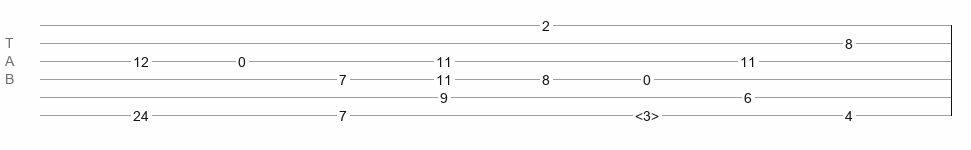0: (238, 54, 246, 64), (643, 72, 651, 82)
11: (436, 72, 452, 82), (436, 54, 452, 64), (740, 54, 756, 64)
12: (133, 54, 149, 64)
2: (542, 18, 550, 28)
24: (133, 108, 149, 118)
4: (845, 108, 853, 118)
6: (744, 90, 752, 100)
7: (339, 108, 347, 118), (339, 72, 347, 82)
8: (542, 72, 550, 82), (845, 36, 853, 46)
9: (440, 90, 448, 100)
harmonic: (635, 108, 659, 118)
